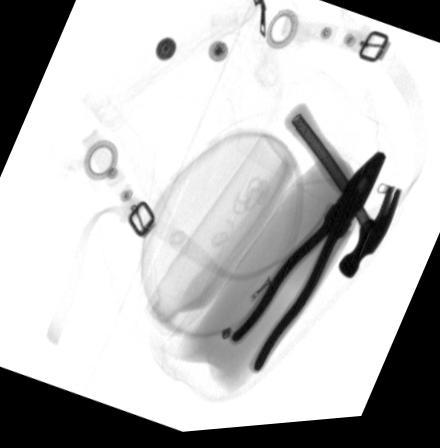Hammer: (283, 106, 401, 285)
Pliers: (229, 155, 387, 378)
